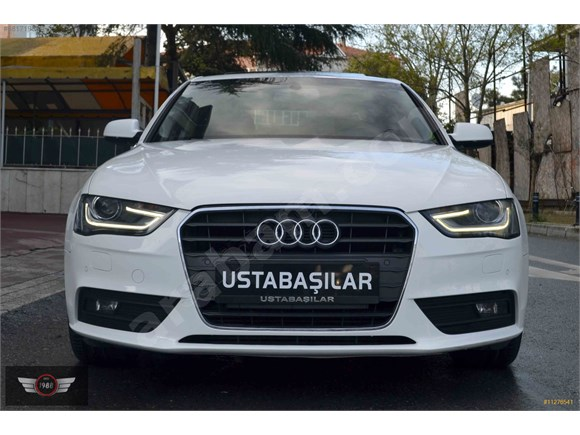audi: (251, 214, 345, 252)
